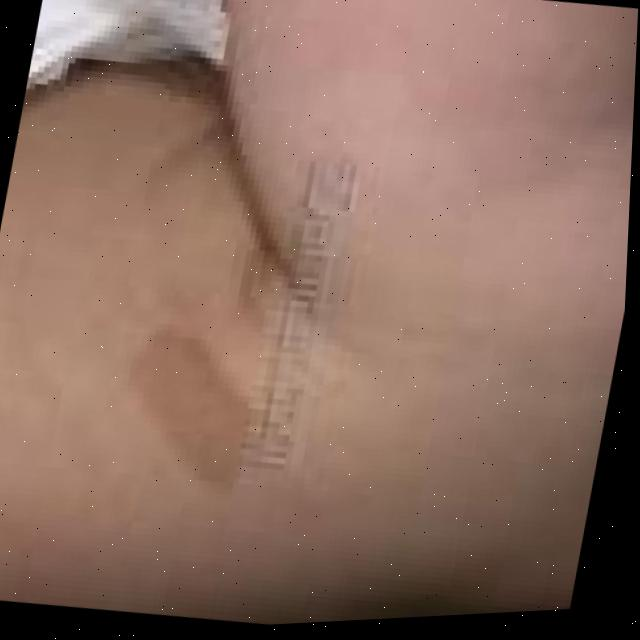Melasma: (105, 342, 257, 481)
